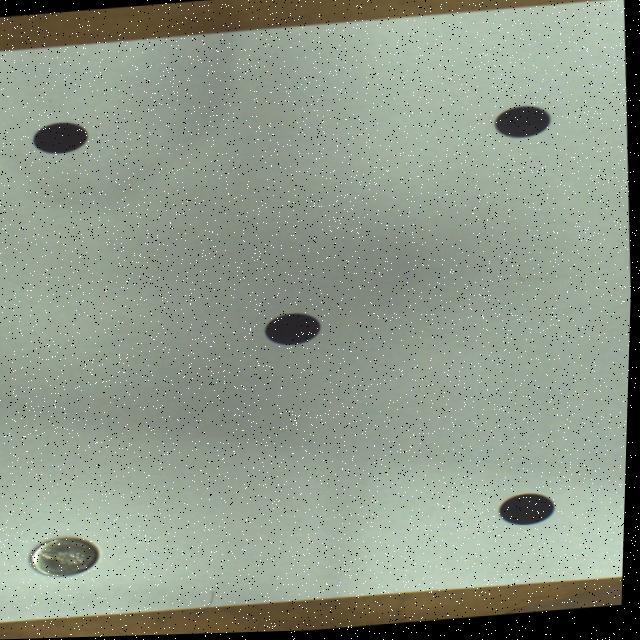space: (35, 122, 90, 154), (503, 496, 558, 528), (496, 109, 551, 140), (267, 314, 322, 345)
tail1bath: (33, 537, 102, 576)
